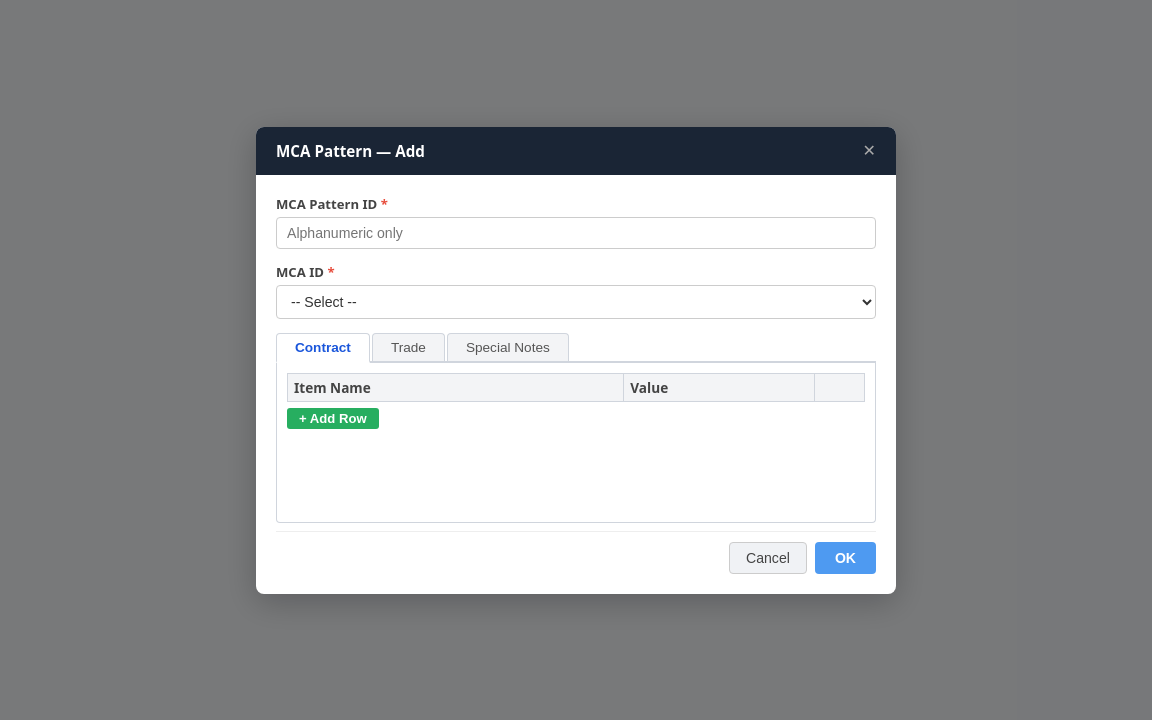
Scenario: MCAPatternModal › shows error when save fails
Type "PAT001" into the field with placeholder "Alphanumeric only".
click(576, 232); type("PAT001")  # box [276, 216, 876, 248]
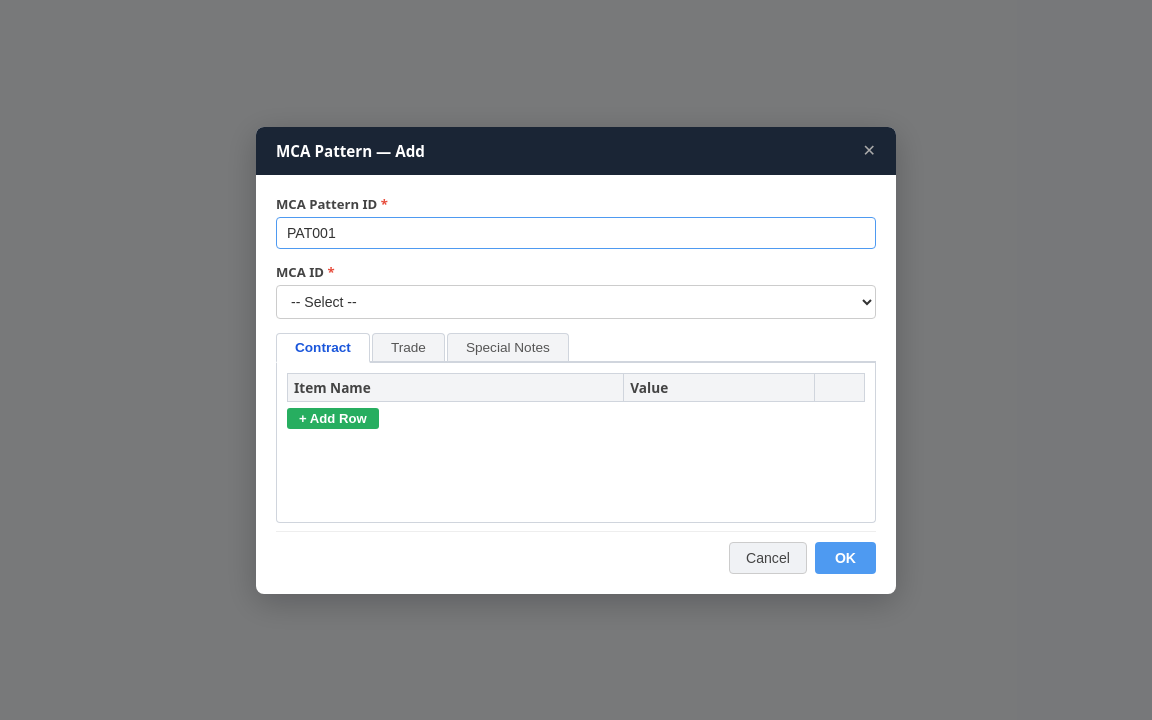
Select "MCA001" in the dropdown at (576, 302), box [276, 284, 876, 318]
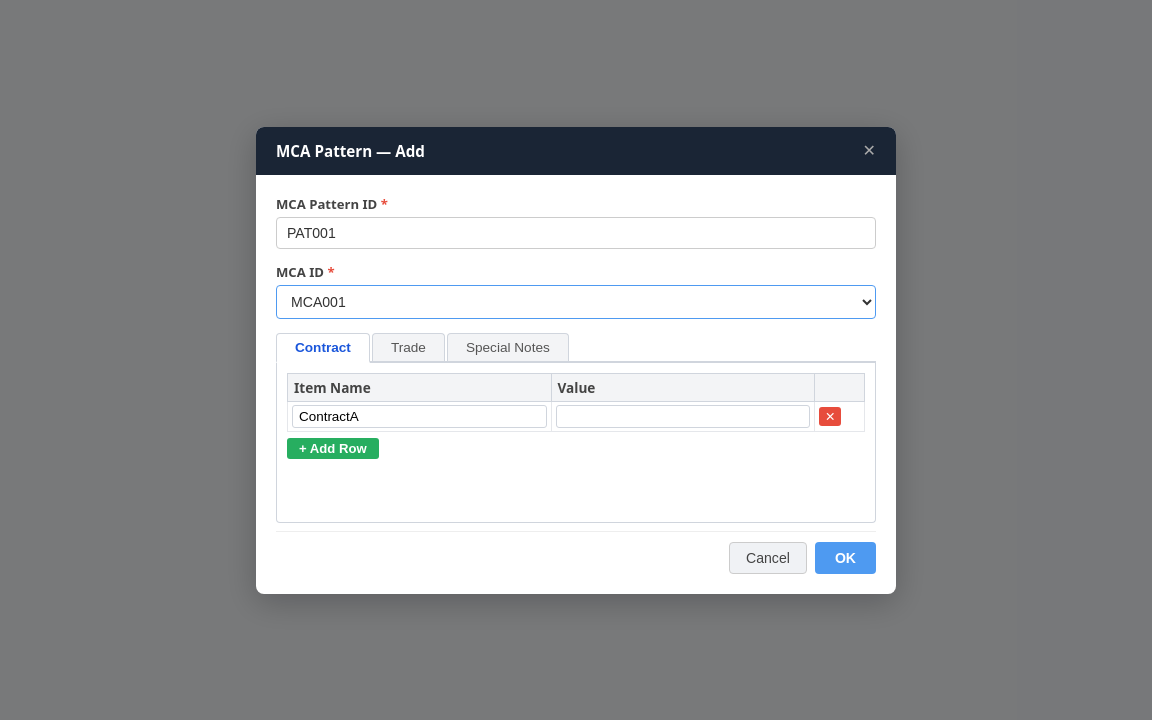
Click the button "OK".
click(845, 558)  # box [815, 542, 876, 574]
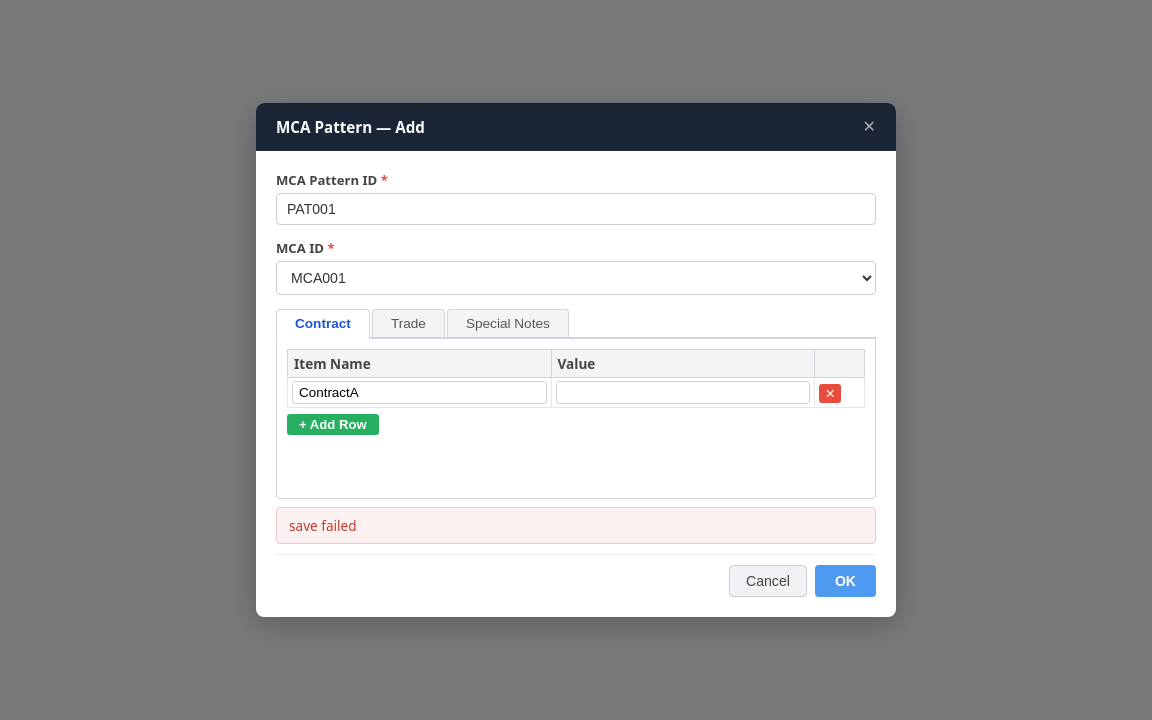
Expected: the button "OK" is enabled, [815, 565, 876, 597]
Result: the text "save failed" is shown at [276, 507, 876, 544]
